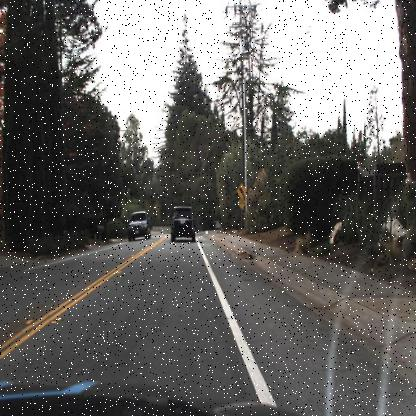car: (168, 206, 198, 244), (128, 208, 148, 240)
